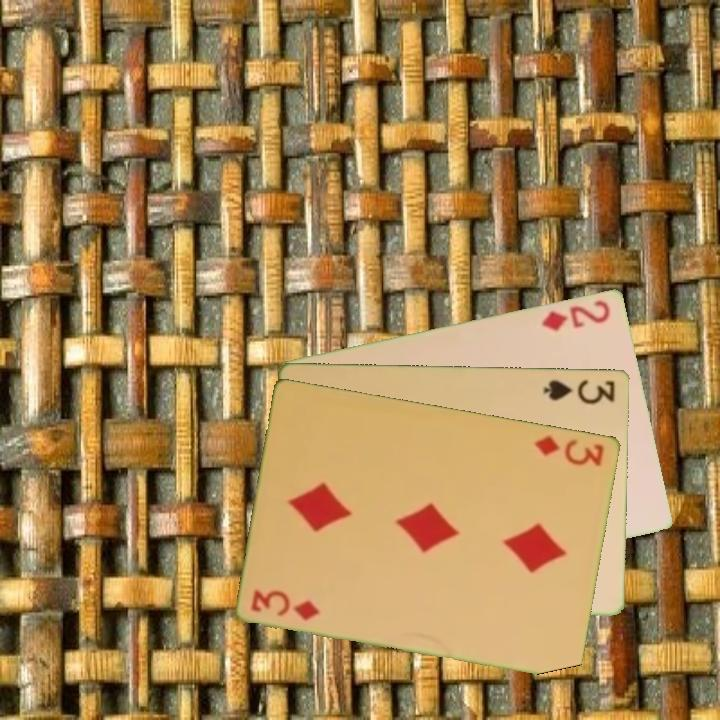2d: (539, 296, 613, 334)
3d: (248, 585, 323, 623), (531, 431, 607, 468)
3s: (540, 375, 618, 407)
